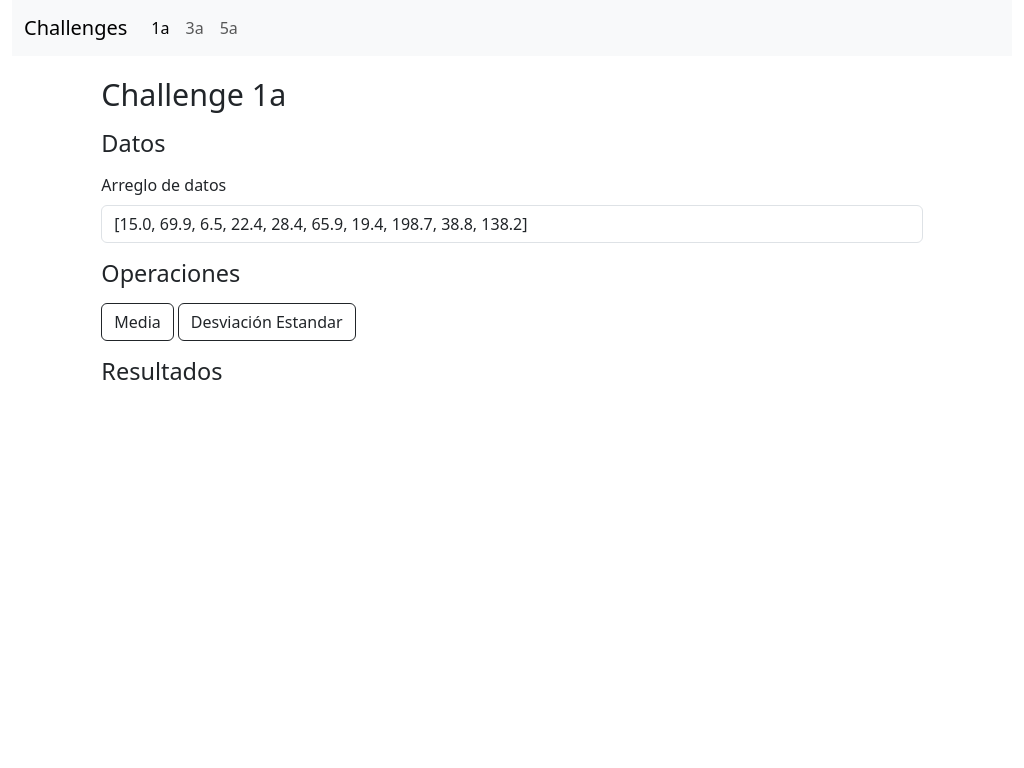
Test: Challenges App - e2e testing › Navega a Challenge 3a
This screenshot has width=1024, height=768.
Click the link with id "challenge3Link".
click(195, 28)  # box [186,17,204,39]
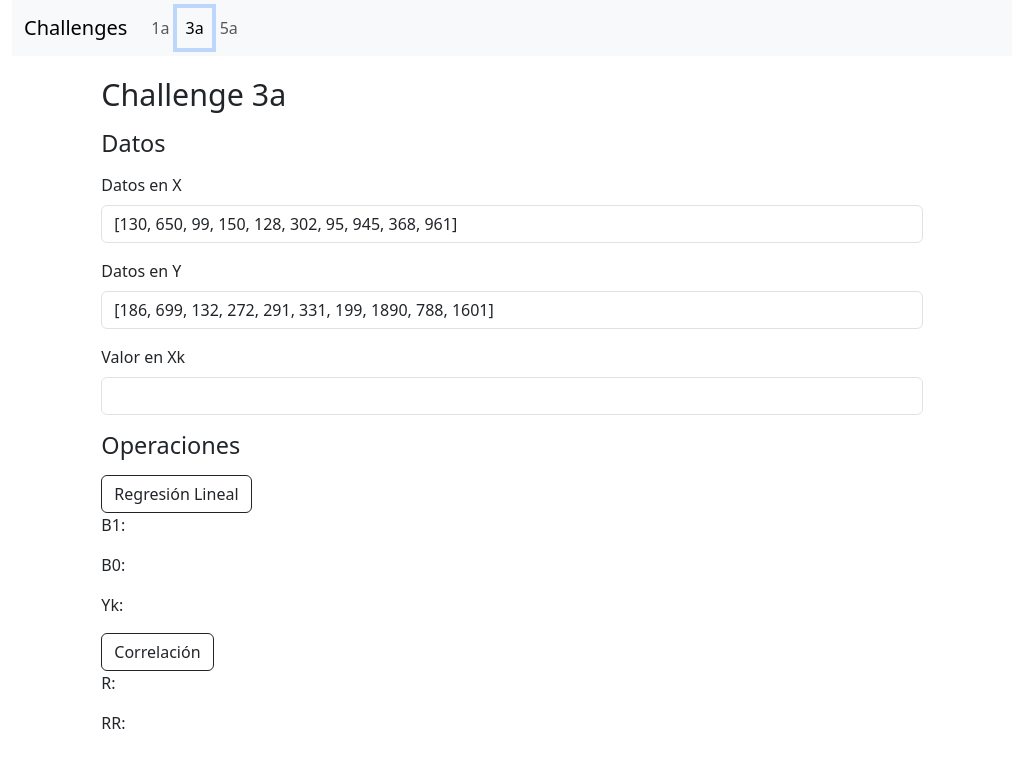
Now the heading "Challenge 3a" is shown, box [101,73,286,115]
